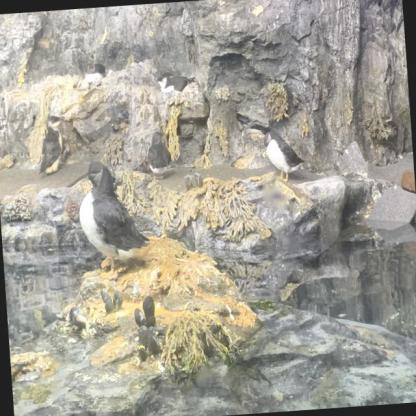puffin: (73, 157, 153, 282), (262, 127, 307, 184), (34, 113, 67, 176), (144, 129, 174, 181), (157, 69, 196, 95), (64, 301, 90, 334), (84, 62, 106, 82)
